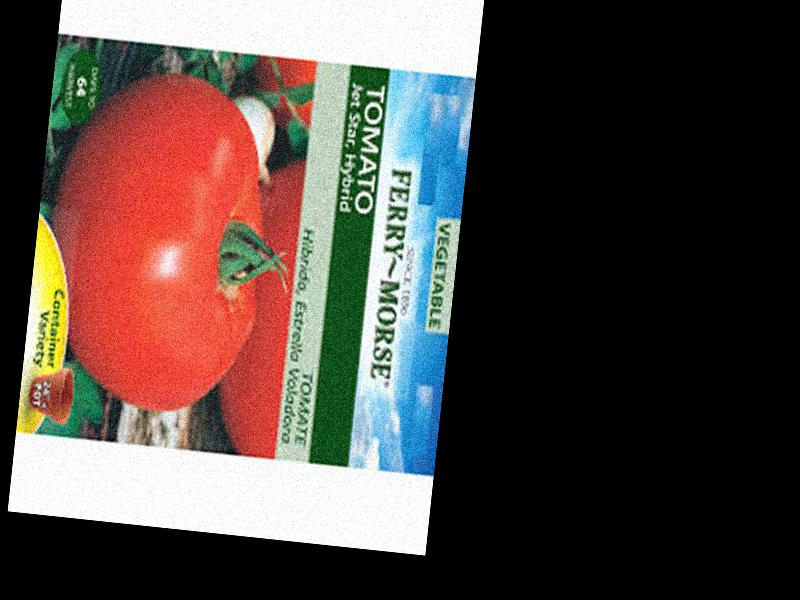Tomato: (34, 62, 279, 416)
